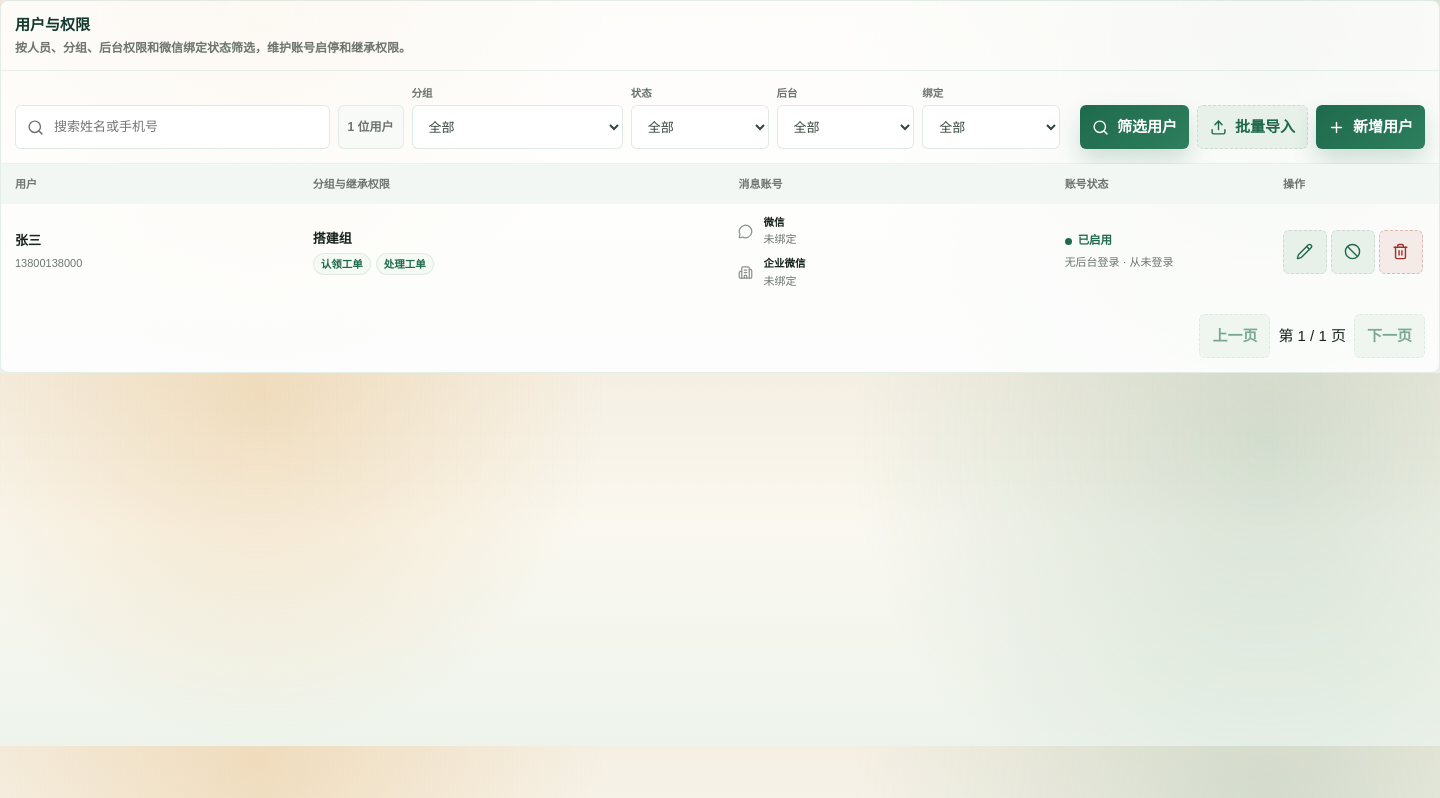
Scenario: AdminUsersPanel chat identity controls › updates the open editor immediately after binding an initially unbound identity
Click the button named "编辑张三". click: (1305, 252)
box: [1283,230,1327,274]
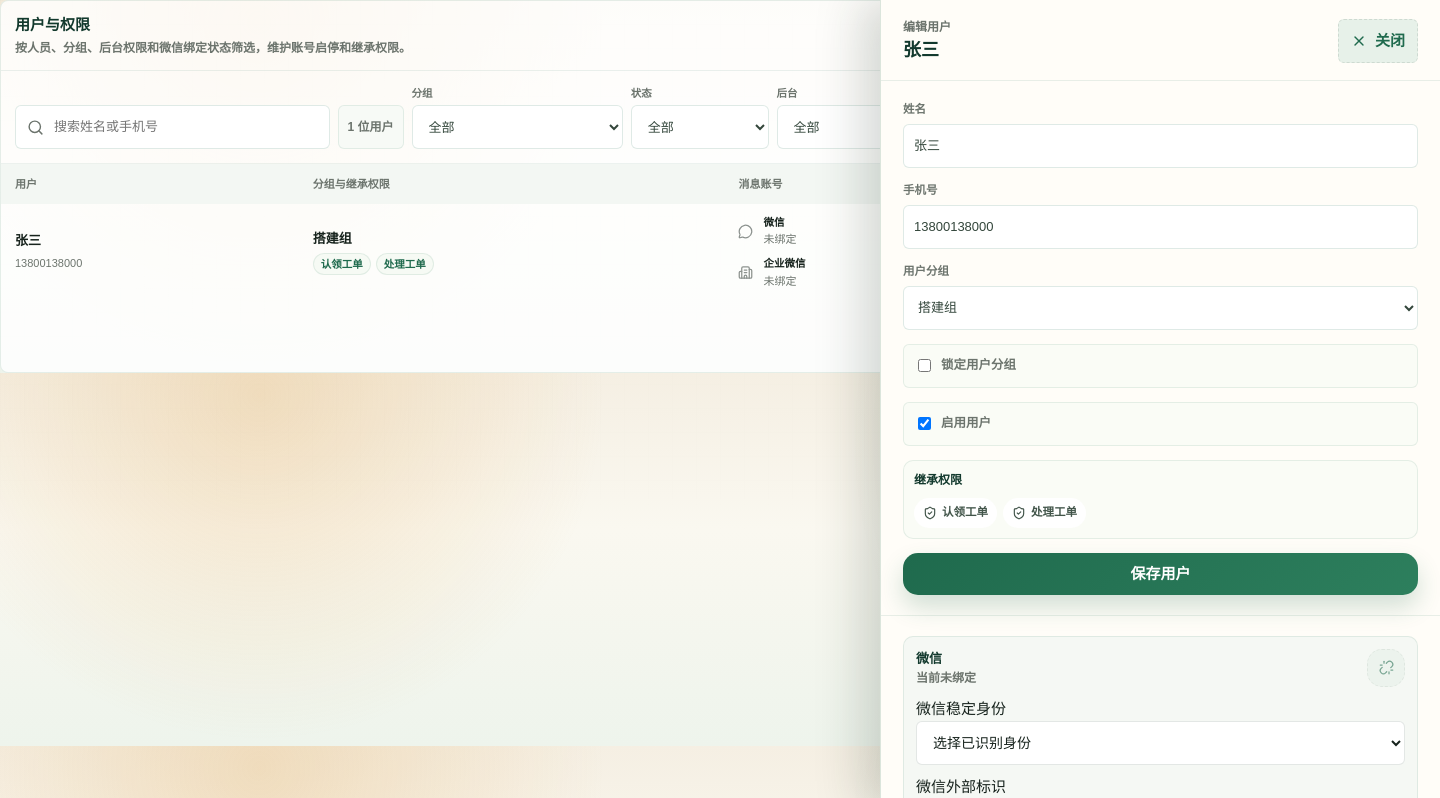
Now the text "当前未绑定" is shown, box [916,669,976,687]
Now the button named "解绑微信身份" is disabled, box [1367,648,1405,686]
Select "New WeChat (wxid-new)" in the dropdown labelled "微信稳定身份". click: (1160, 742)
box: [916,720,1405,764]
(page scrolled)
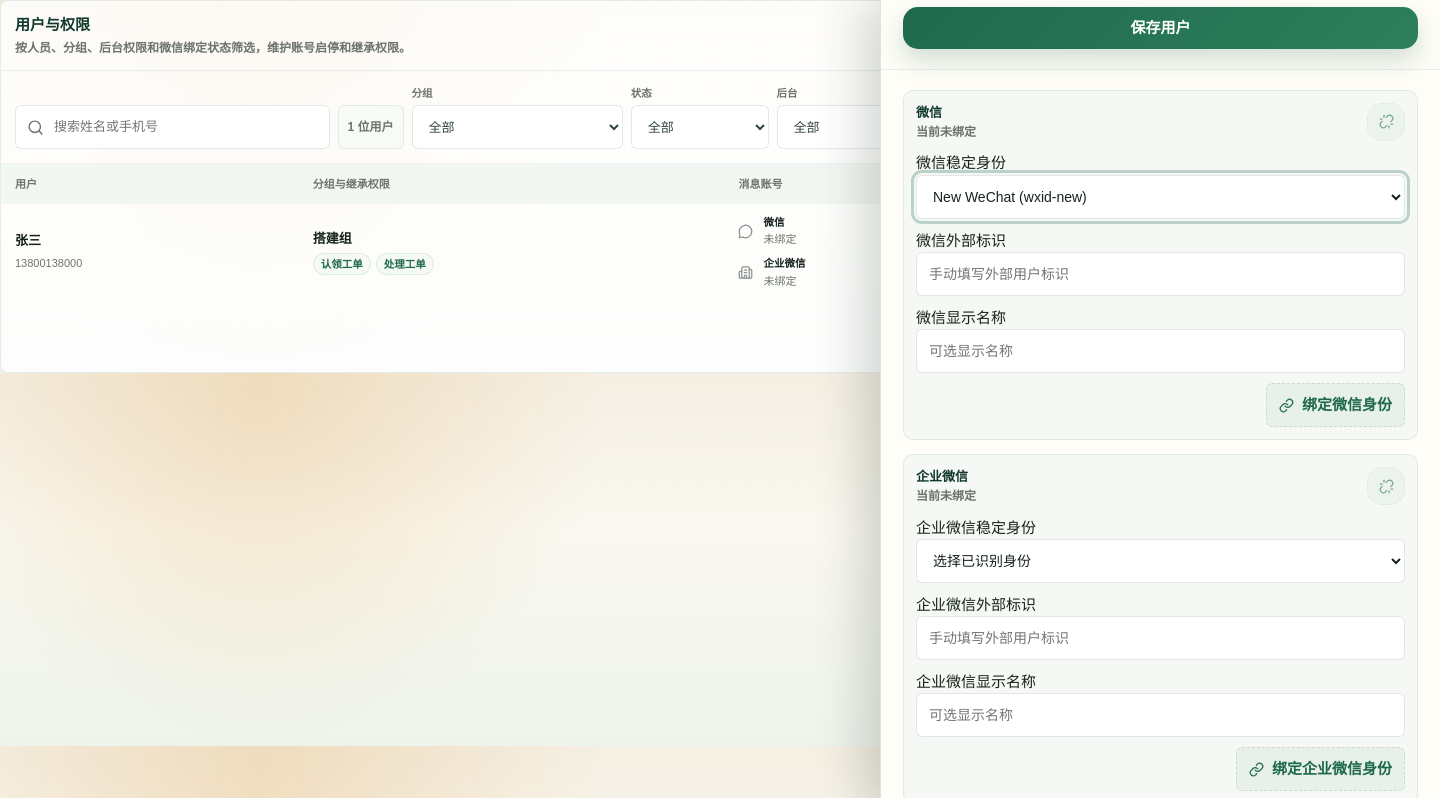
Click the button "绑定微信身份". click: (1336, 405)
box: [1266,383,1405,427]
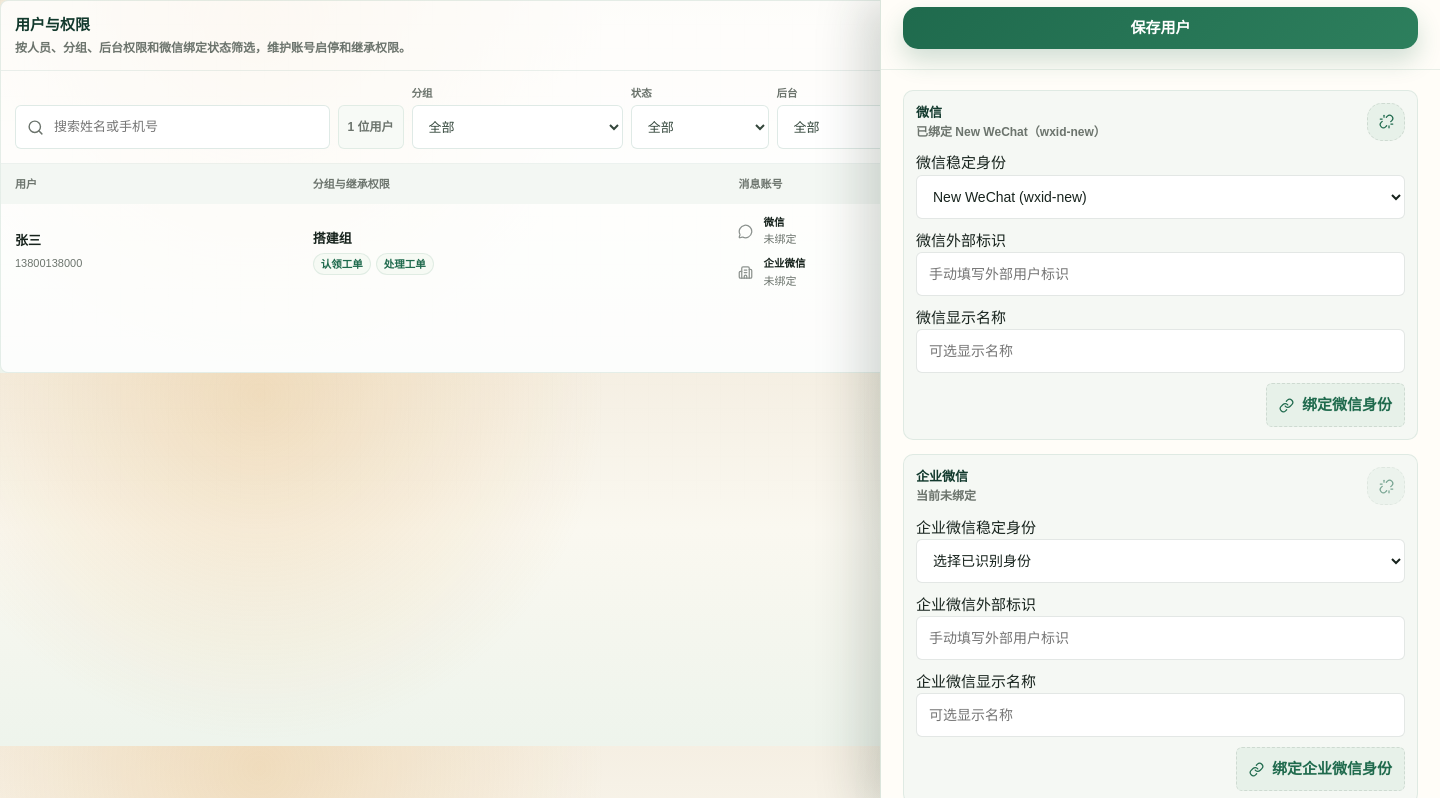
Now the text "已绑定 New WeChat（wxid-new）" is shown, box [916,123,1106,141]
Now the button named "解绑微信身份" is enabled, box [1367,102,1405,140]
